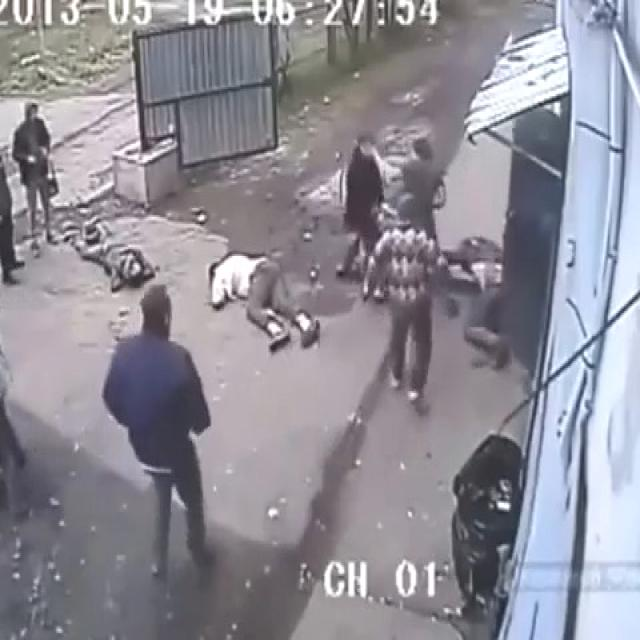fight: (95, 186, 344, 372), (296, 101, 488, 292)
